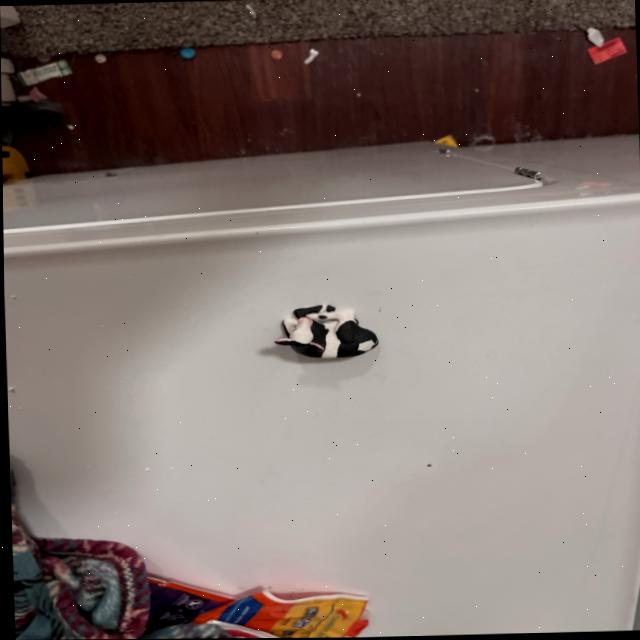cow: (272, 303, 377, 360)
